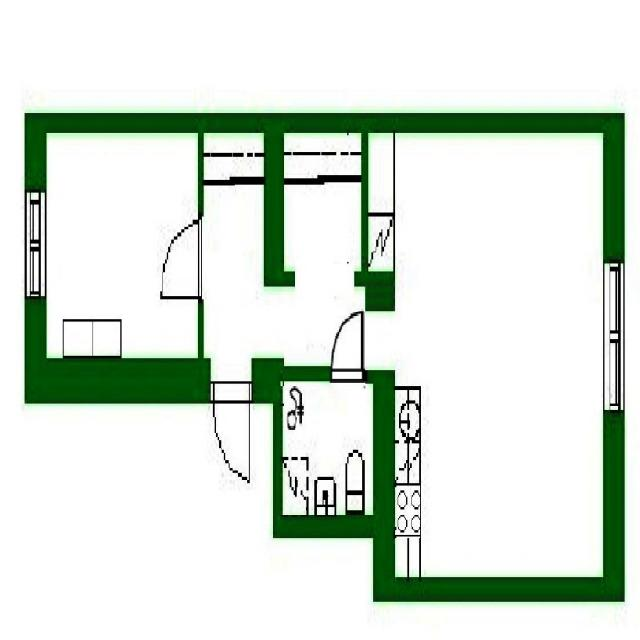door: (156, 220, 204, 296), (213, 380, 250, 467), (331, 306, 364, 380)
